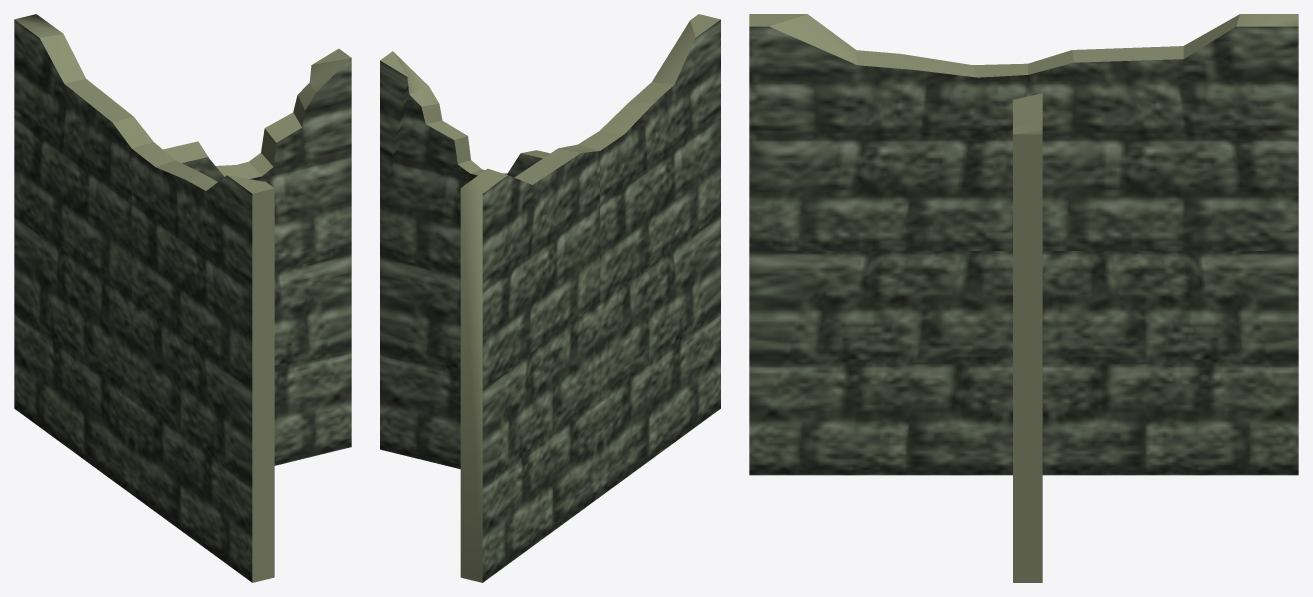
The model's file is ruins_corner_3.glb.
3 renders of one model, left to right at view 1: azimuth 30°, elevation 25°; view 2: azimuth 150°, elevation 25°; view 3: azimuth 270°, elevation 25°, orthographic. The views are drawn at different scales.
Visible parts, largest first — view 1: ruin_83; view 2: ruin_83; view 3: ruin_83.
Part boxes in pixels (x1=…): ruin_83: x1=14, y1=14, x2=351, y2=582; ruin_83: x1=380, y1=14, x2=720, y2=582; ruin_83: x1=749, y1=14, x2=1298, y2=582.
Bounding box in the file's own units: 2 × 3.49 × 3.87.
2 materials, 1 textured.
